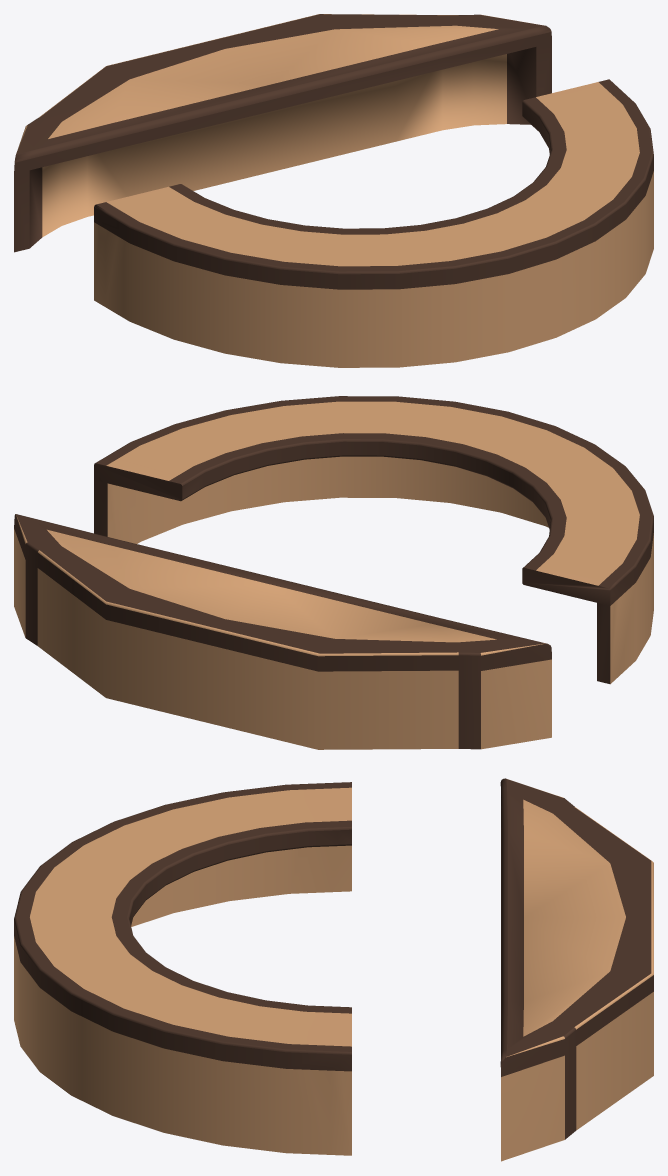
The model's file is newdesk.fbx.
3 views of the same model, one above another, from view 1: azimuth 30°, elevation 25°; view 2: azimuth 150°, elevation 25°; view 3: azimuth 270°, elevation 25° (orthographic). The views are drawn at different scales.
Visible parts, largest first — view 1: FrontDesk, BackDesk; view 2: BackDesk, FrontDesk; view 3: FrontDesk, BackDesk.
Boxes of the visible parts, x1=… form: FrontDesk: x1=94, y1=79, x2=653, y2=367; BackDesk: x1=14, y1=14, x2=551, y2=252; BackDesk: x1=14, y1=514, x2=551, y2=749; FrontDesk: x1=94, y1=396, x2=653, y2=684; FrontDesk: x1=14, y1=782, x2=351, y2=1155; BackDesk: x1=500, y1=778, x2=653, y2=1161.
Size of the model in its own units: 451 by 76.56 by 431.
